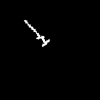double_crochet: (25, 20, 48, 45)
